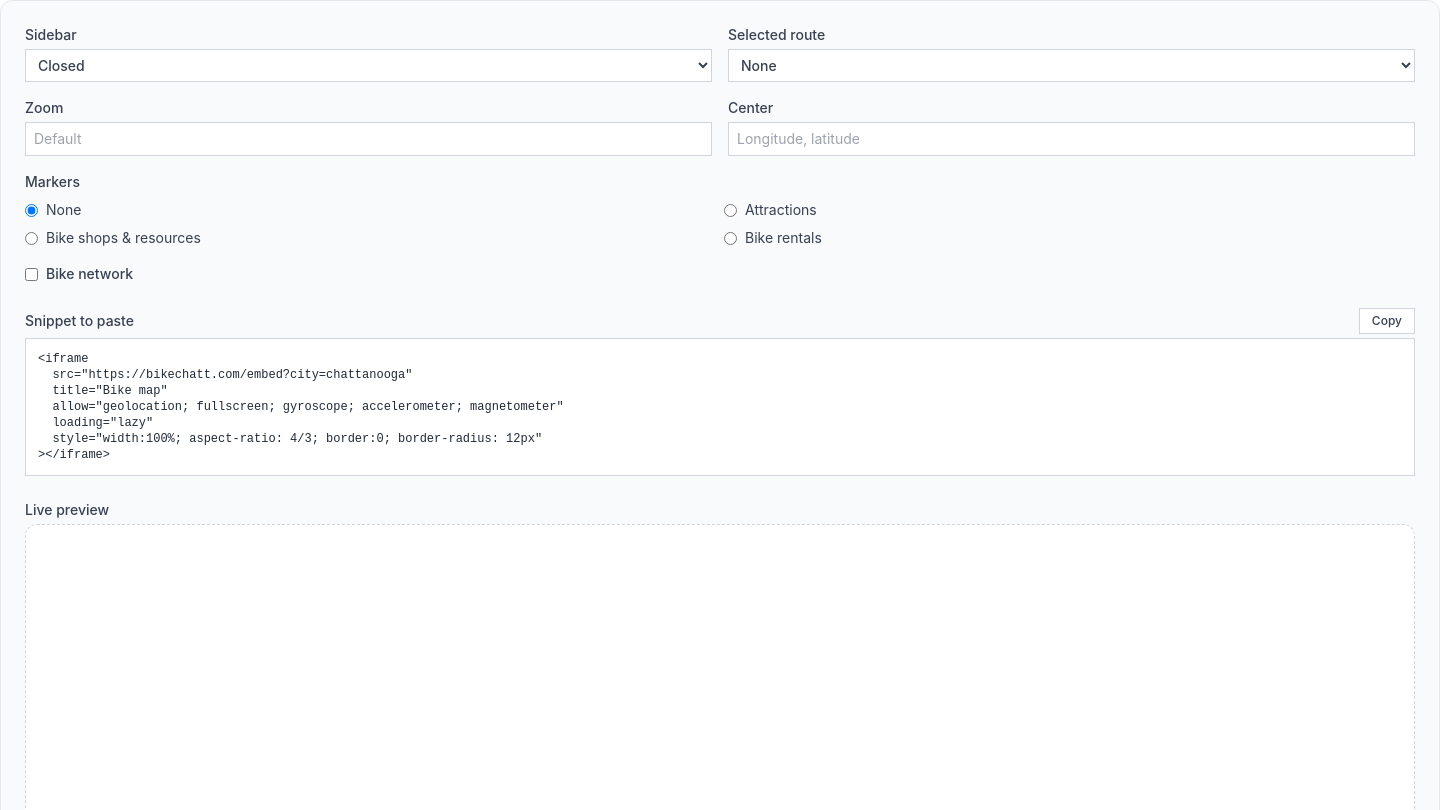
EmbedSnippetBuilder › selecting a different marker layer replaces rather than appends
Click the radio button labelled "Attractions" at (730, 210), box x1=724 y1=204 x2=737 y2=216
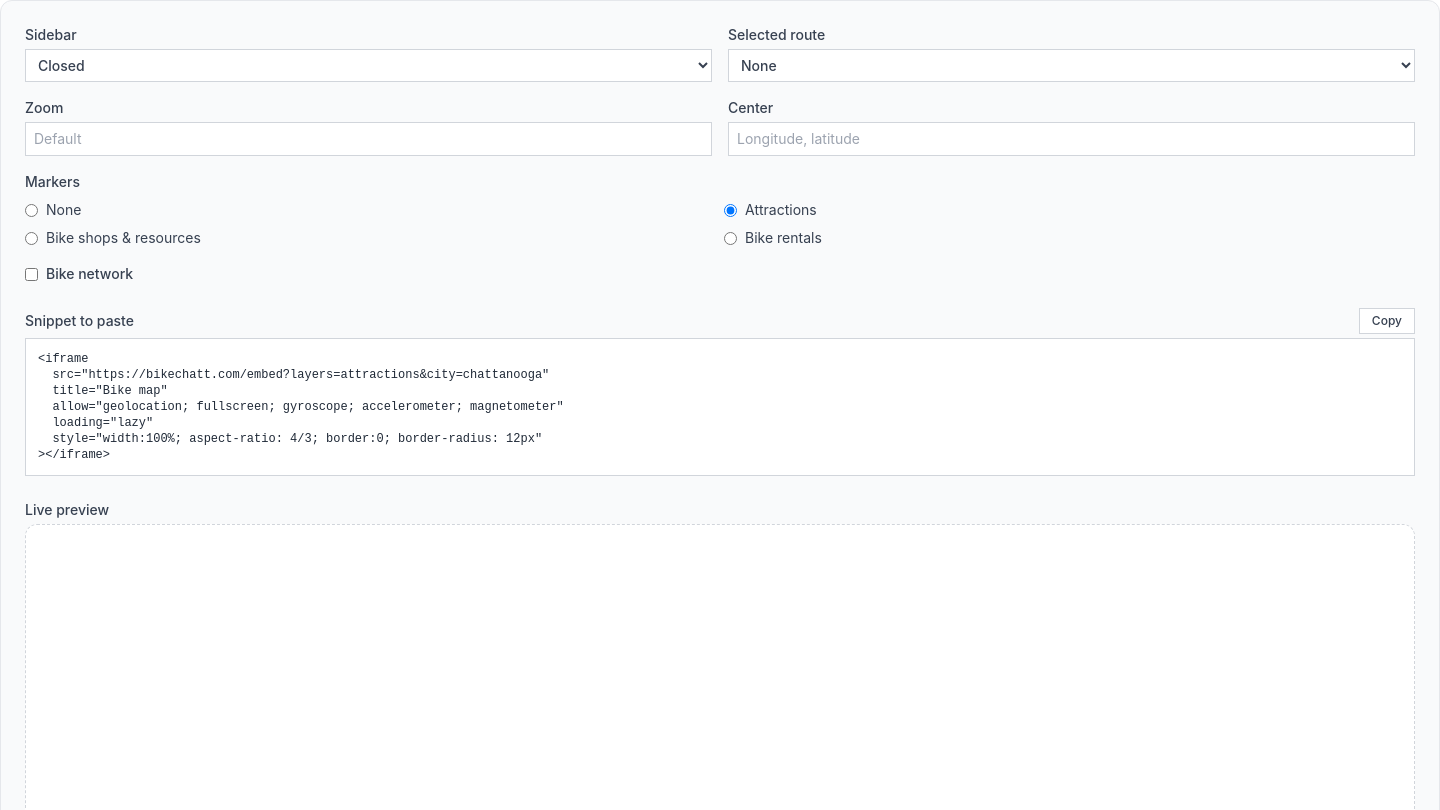
Result: the text "<iframe" shows "layers=attractions" at x1=38 y1=352 x2=564 y2=462
Click the radio button labelled "Bike rentals" at (730, 238), box x1=724 y1=232 x2=737 y2=244
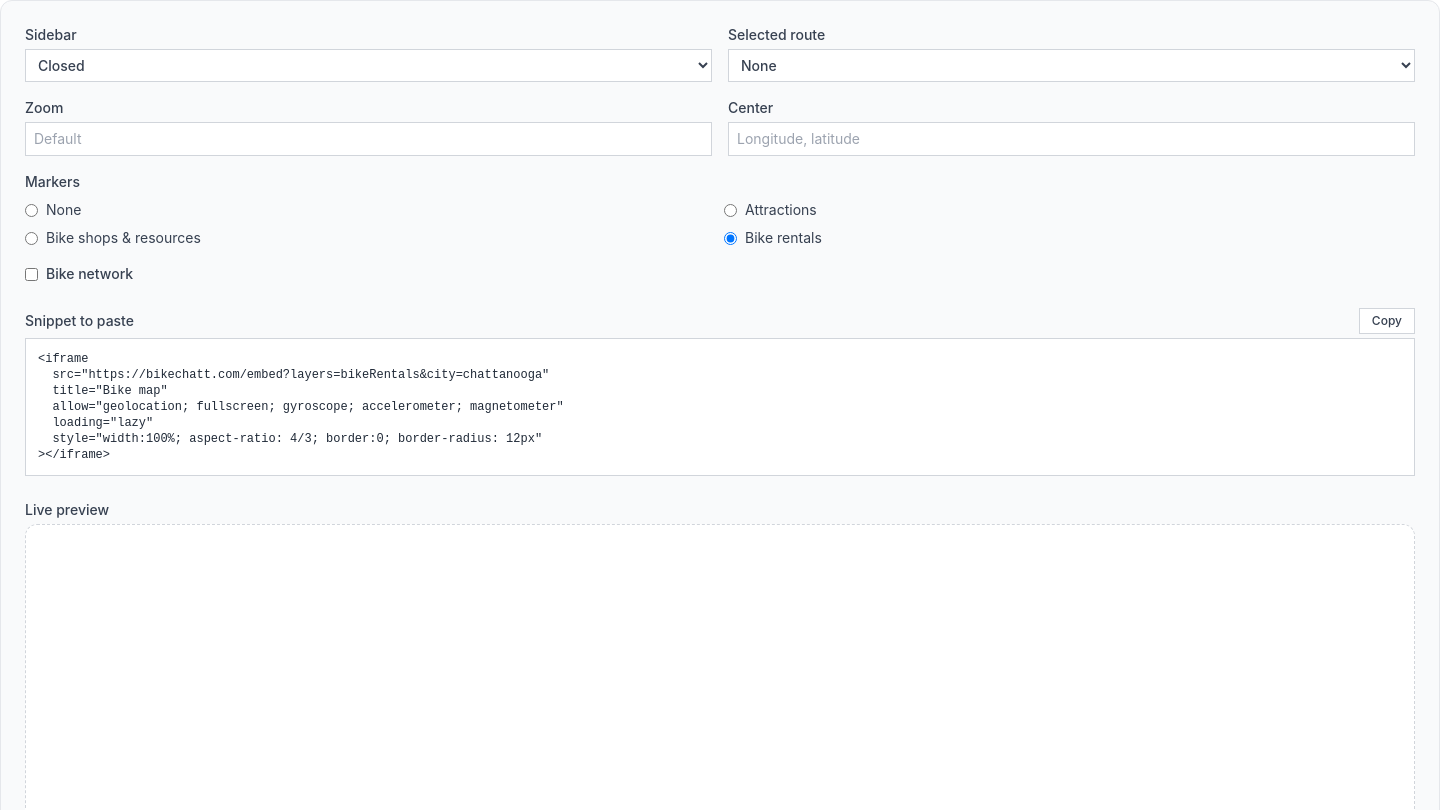
Result: the text "<iframe" shows "layers=bikeRentals" at x1=38 y1=352 x2=564 y2=462
Result: the text "<iframe" no longer shows "attractions"
